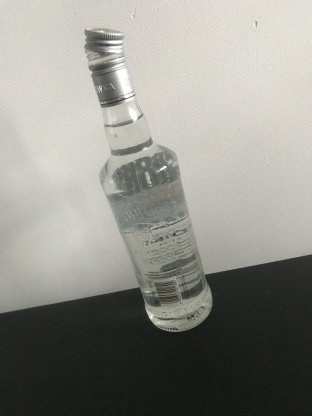nakretka: (82, 24, 136, 108)
